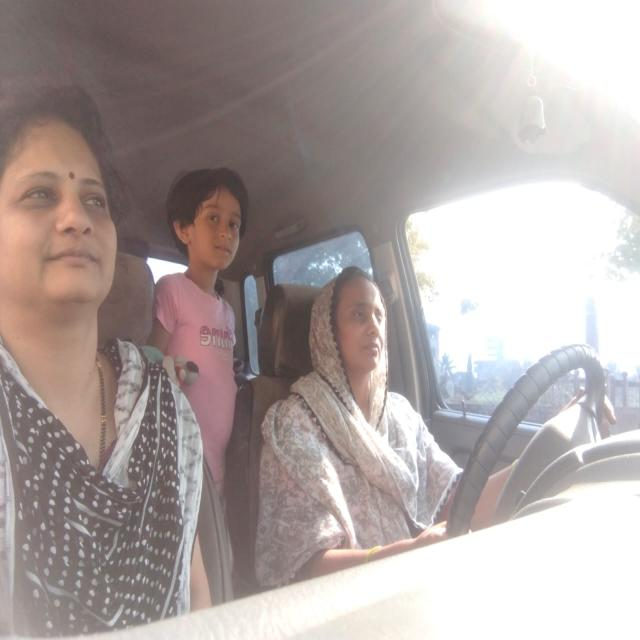person: (0, 89, 120, 309), (312, 266, 395, 383), (168, 163, 248, 282)
